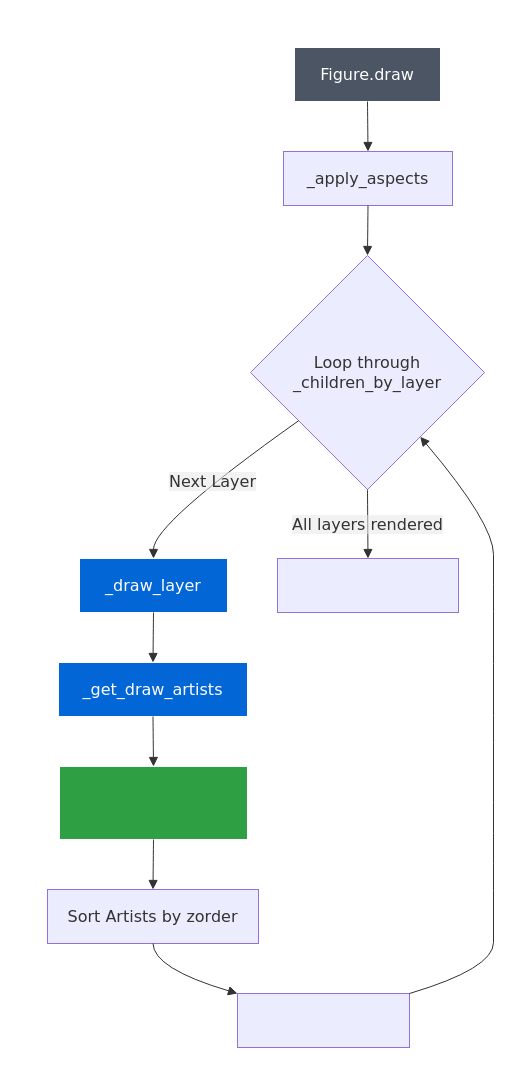
This 511x1065 diagram has some shape labels left out. Here are the shapes that lost their labels. From the top down, the box of each, then its label:
(276, 558, 458, 612): End of draw pass
(58, 766, 248, 840): get_children layer=layer_name
(236, 992, 410, 1048): Call artist.draw
